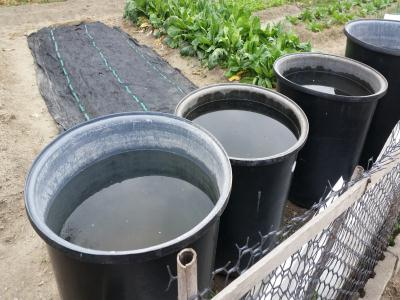bucket: (20, 111, 234, 298), (173, 81, 314, 280), (270, 50, 388, 215), (339, 15, 399, 165)
